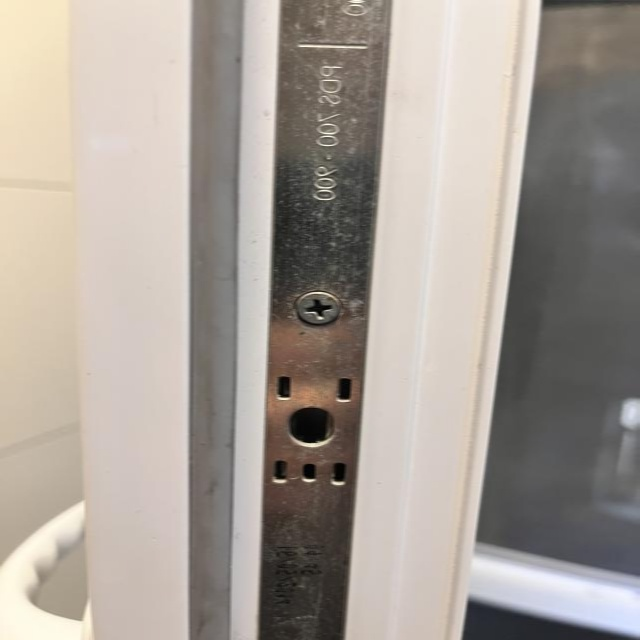phillips: (294, 288, 342, 325)
